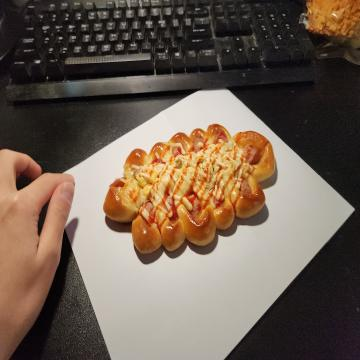pizza_bread: (100, 124, 276, 255)
